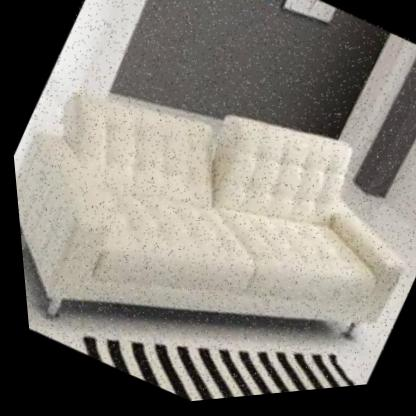Sofa: (3, 14, 416, 416)
